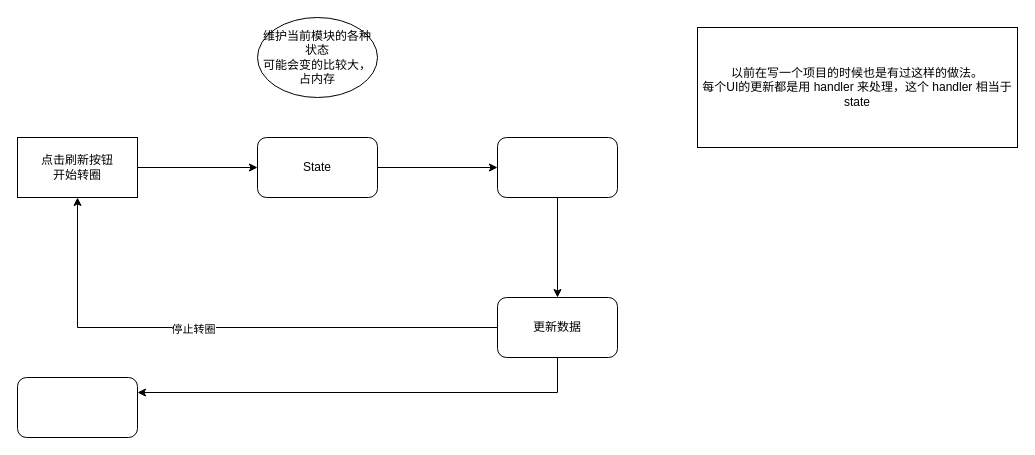
The diagram is 1035 pixels wide and 455 high, and some of its shapes have lost their labels. Here are the shapes that lost their labels. From the top down, the centre of each, then its label:
At [557,167]: "数据源".
At [77,407]: "刷新列表".
